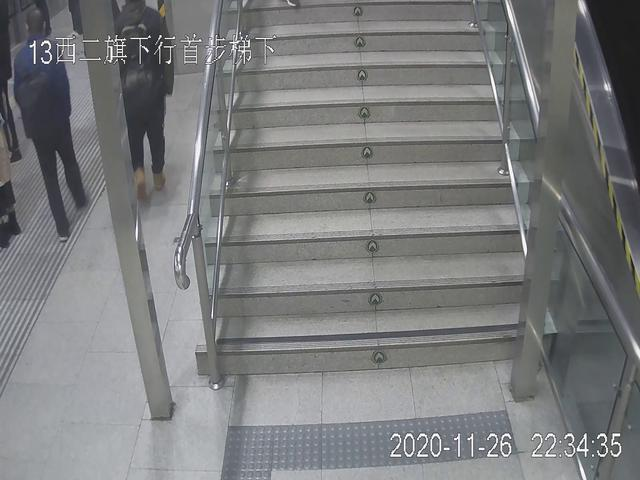person: (8, 4, 93, 245), (109, 1, 177, 207)
